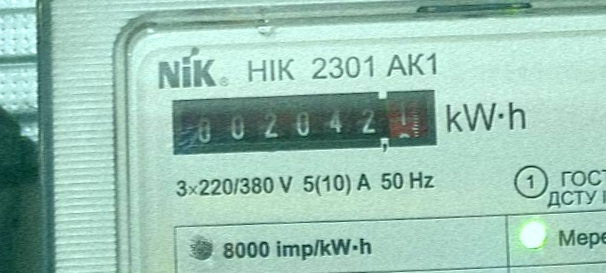0: (195, 112, 215, 143), (229, 109, 248, 141), (294, 106, 314, 136)
1: (396, 95, 411, 127)
2: (262, 108, 282, 138), (360, 103, 379, 133)
4: (327, 102, 347, 135)
screen: (167, 80, 445, 166)
